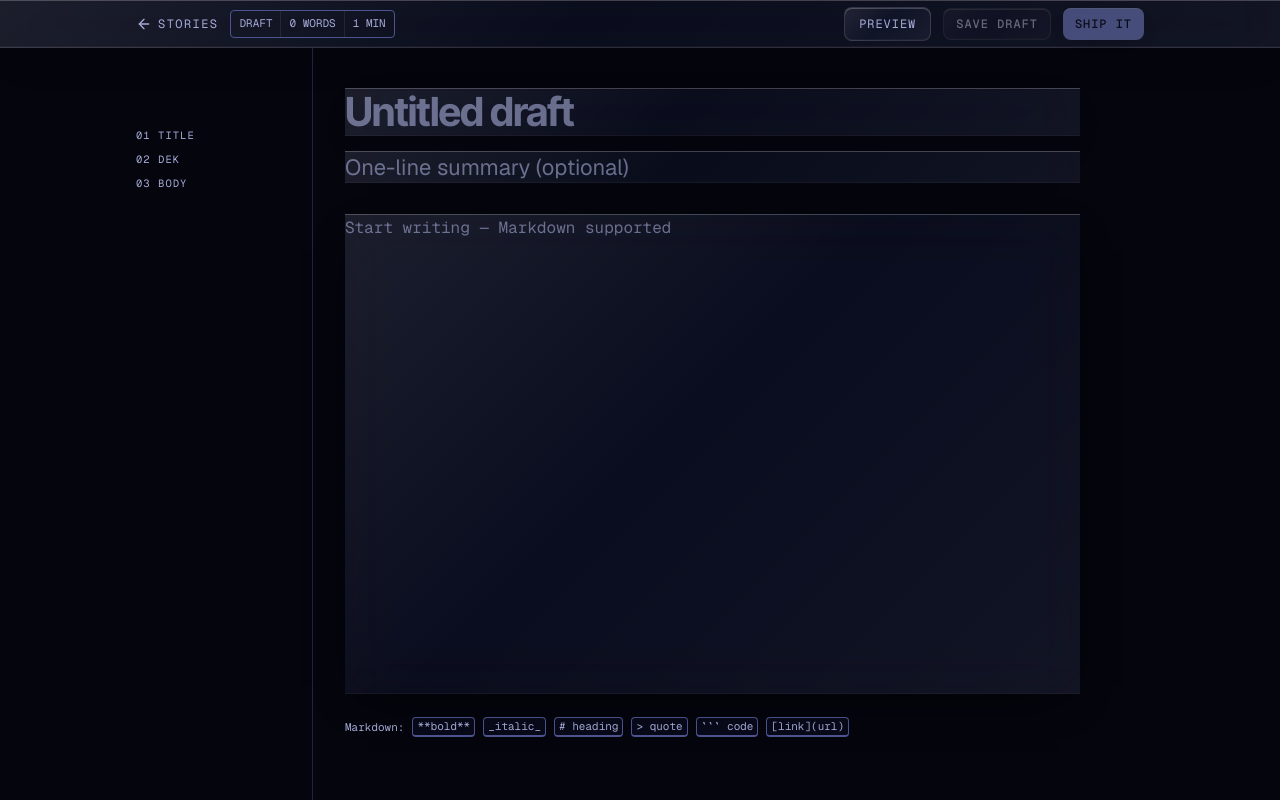
Test: EditorPage › keeps Ship it disabled until there is a title and a body
The width and height of the screenshot is (1280, 800).
Check: the 2nd button named "Ship it" is disabled, box left=1063, top=8, right=1144, bottom=40
Type "T" into the text box labelled "title".
click(712, 112); type("T")  # box left=345, top=88, right=1080, bottom=136
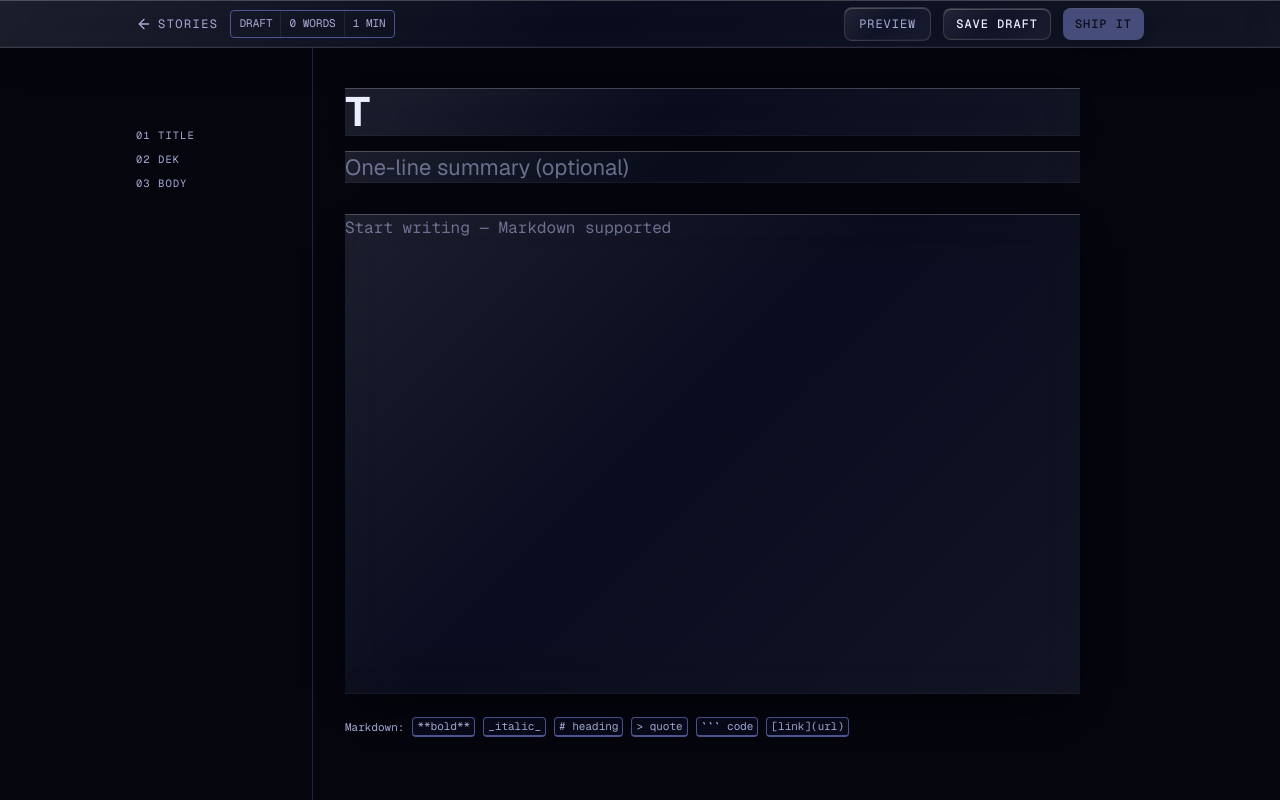
Check: the 2nd button named "Ship it" is disabled, box left=1063, top=8, right=1144, bottom=40
Type "x" into the text box named "Story body (Markdown)".
click(712, 454); type("x")  # box left=345, top=214, right=1080, bottom=694
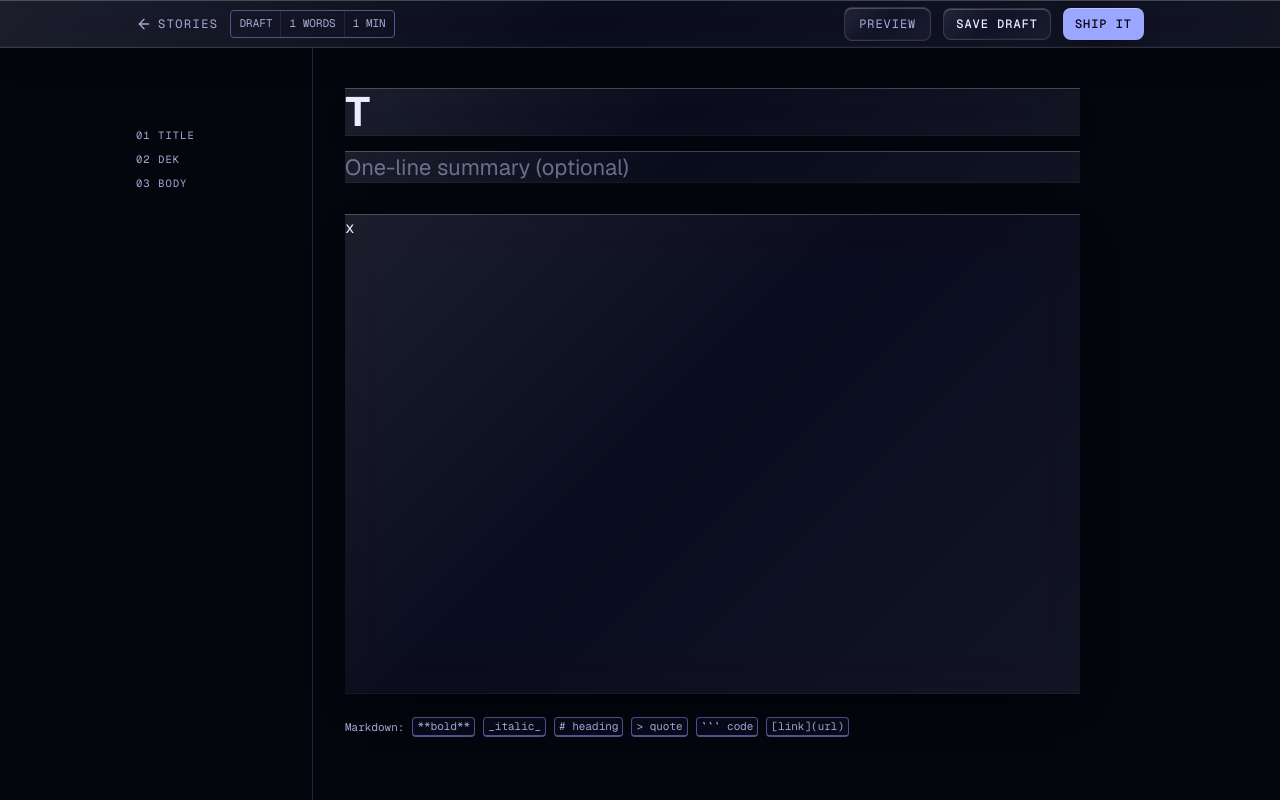
Check: the 2nd button named "Ship it" is enabled, box left=1063, top=8, right=1144, bottom=40
